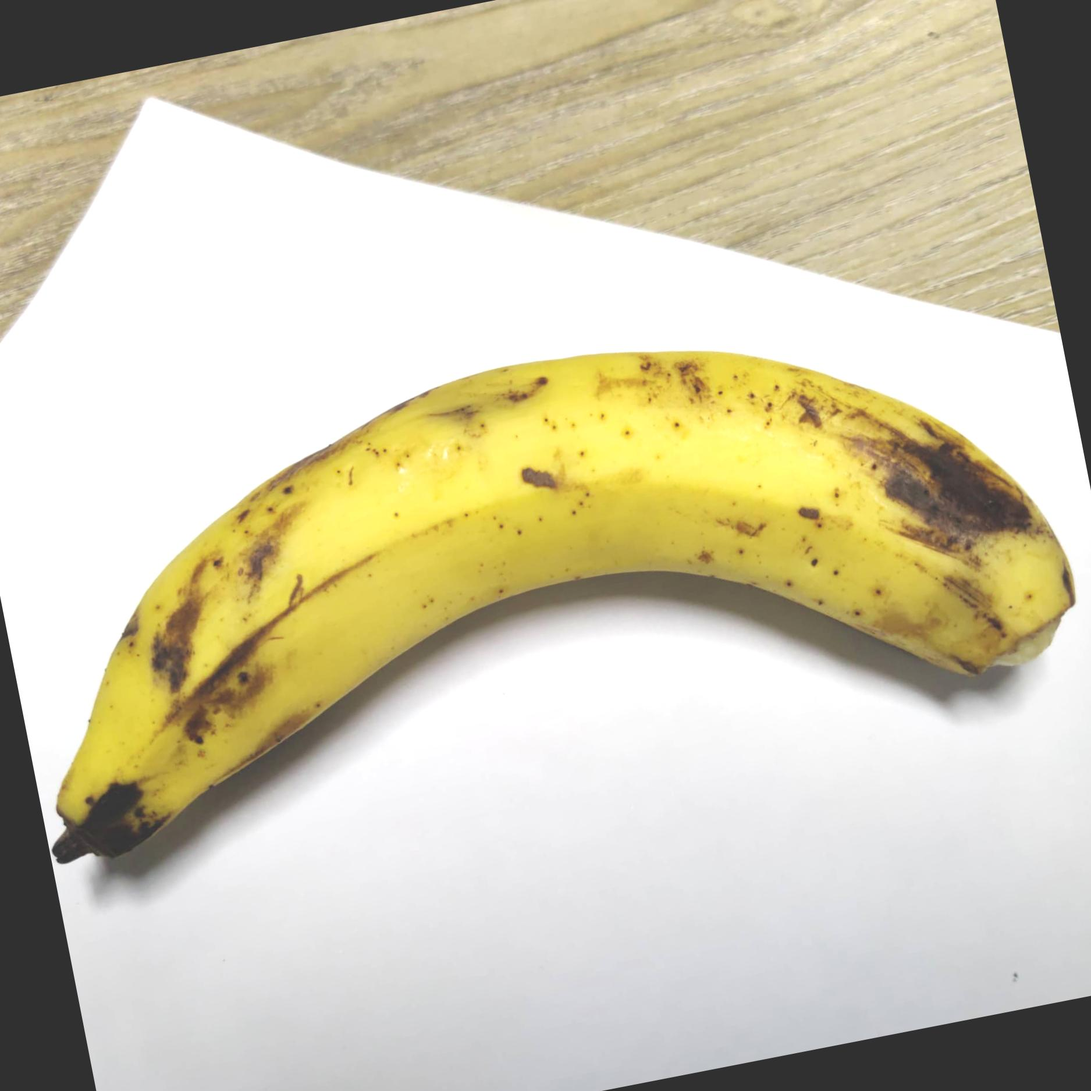Banana Ripe: (27, 248, 1091, 928)
